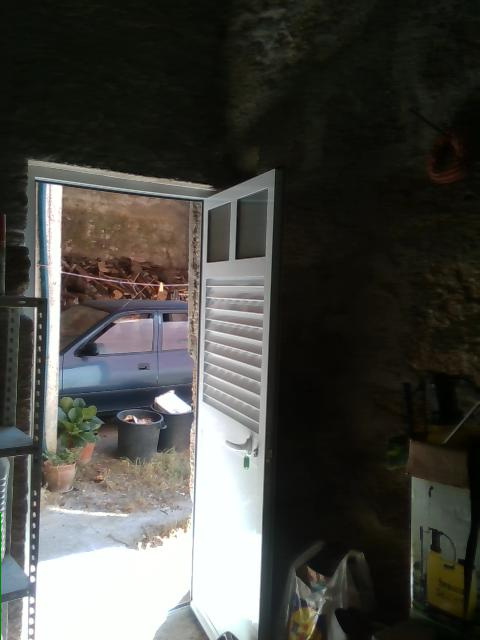door: (191, 165, 282, 639)
